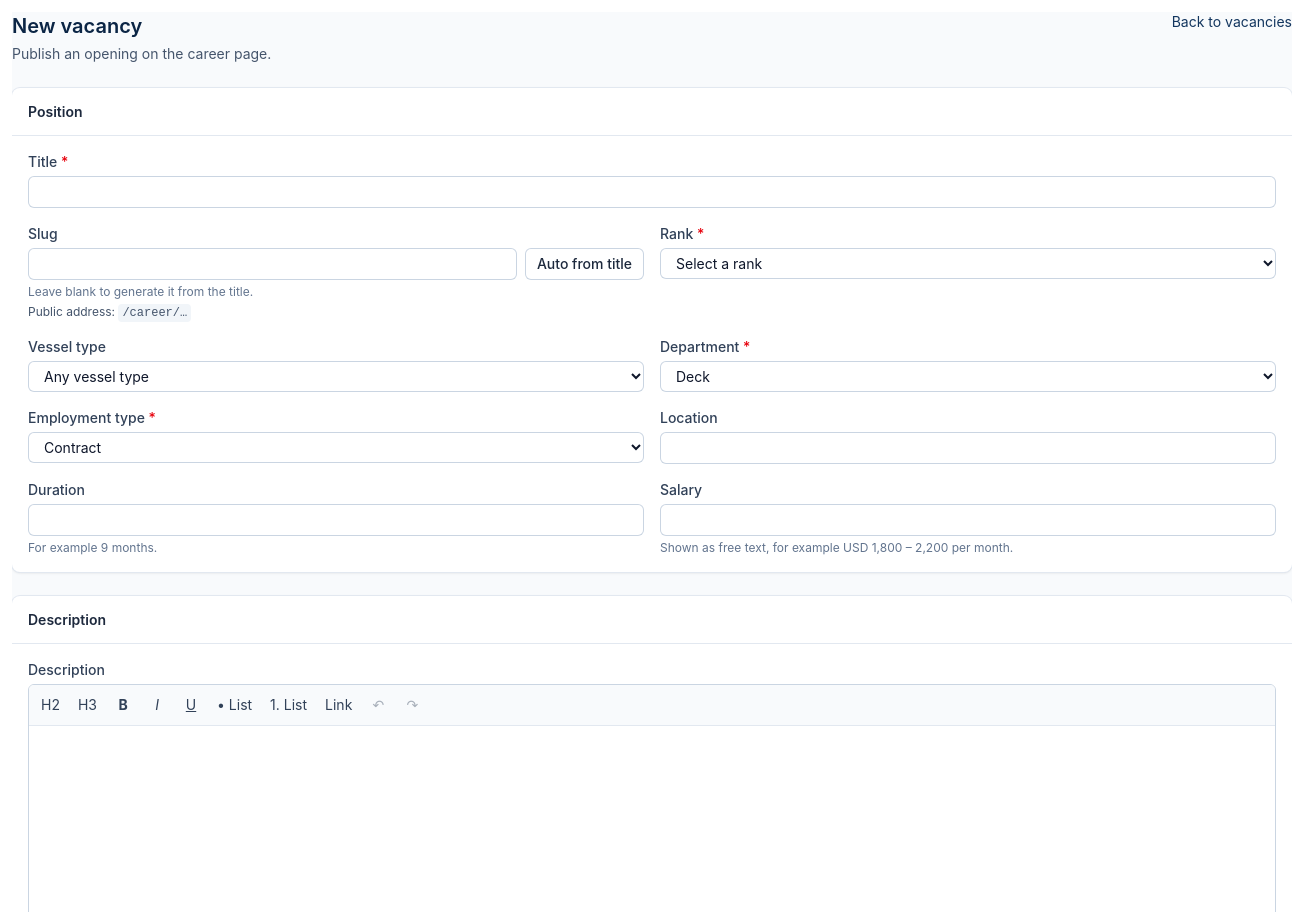
Scenario: VacancyFormPage › fills the slug from the title with the Auto from title button
The image size is (1304, 912).
In the field labelled "Title *": (652, 192) [28, 176, 1276, 208], type "Able Seaman"
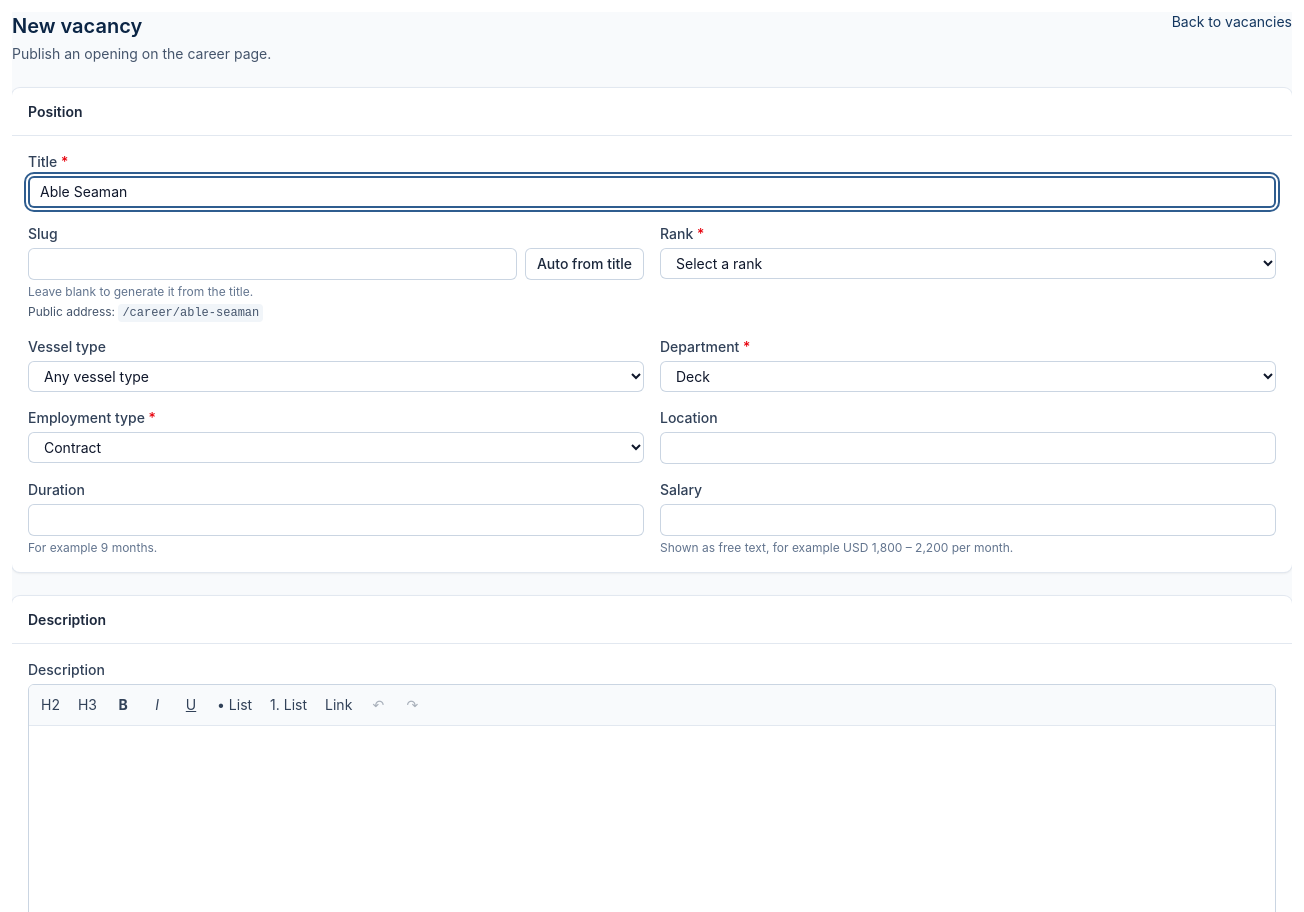
Click the button "Auto from title": click(584, 264) [525, 248, 644, 280]
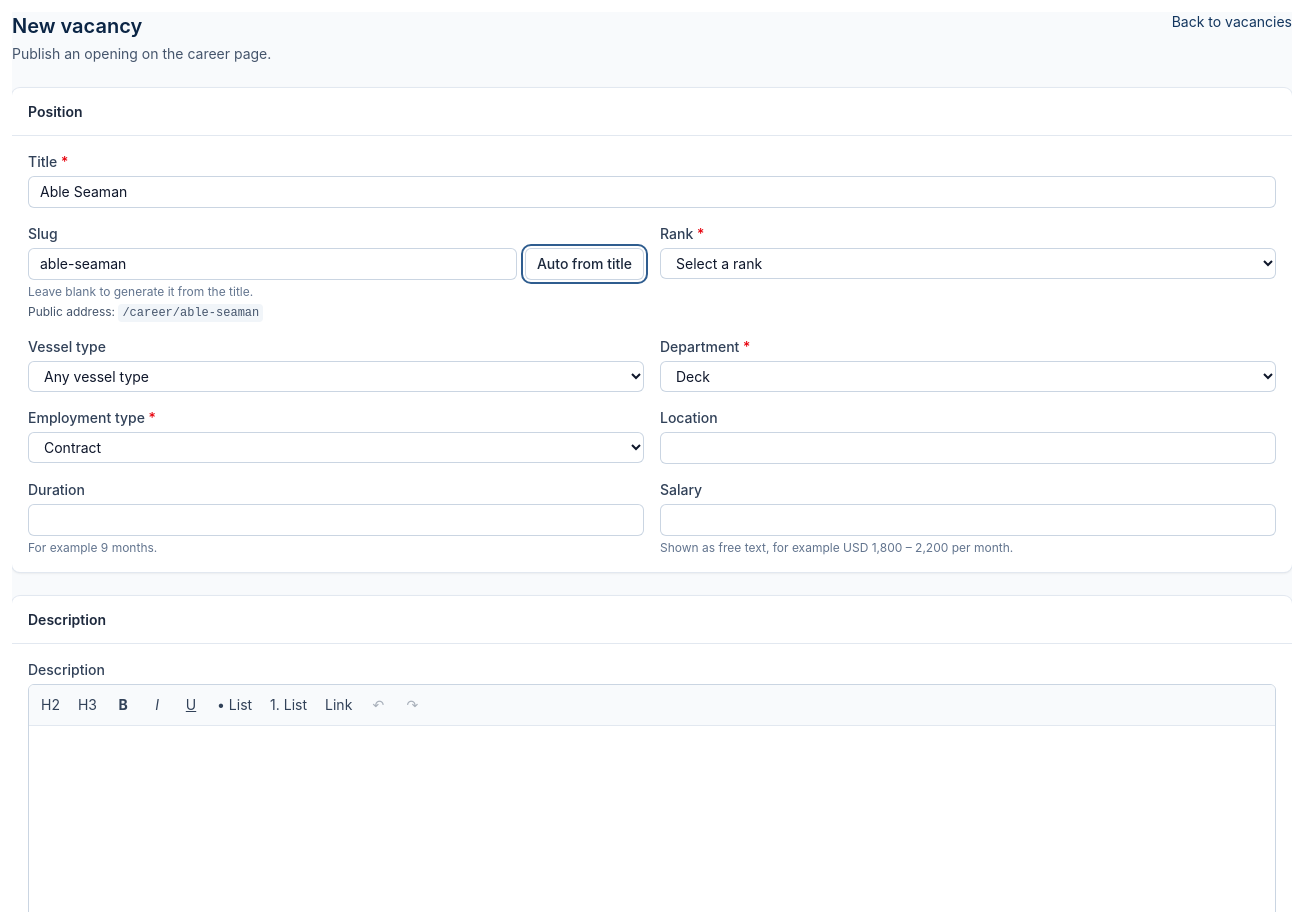
Check: the field labelled "Slug" holds "able-seaman", box [28, 248, 517, 280]
